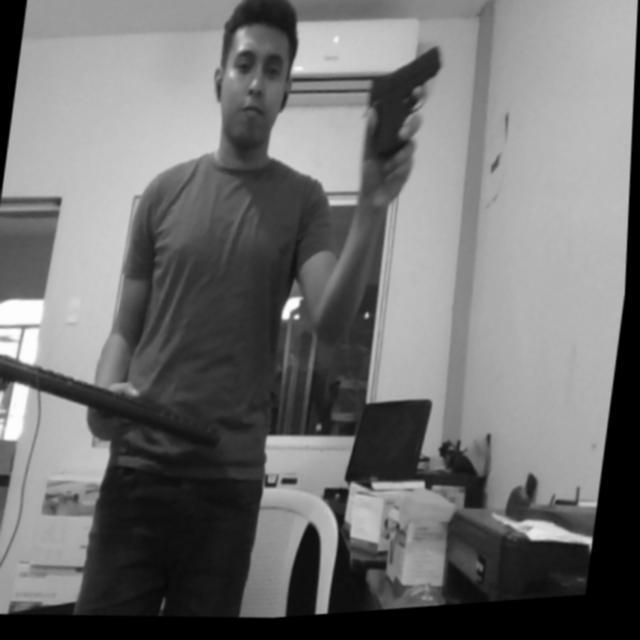weapon: (359, 43, 448, 174)
